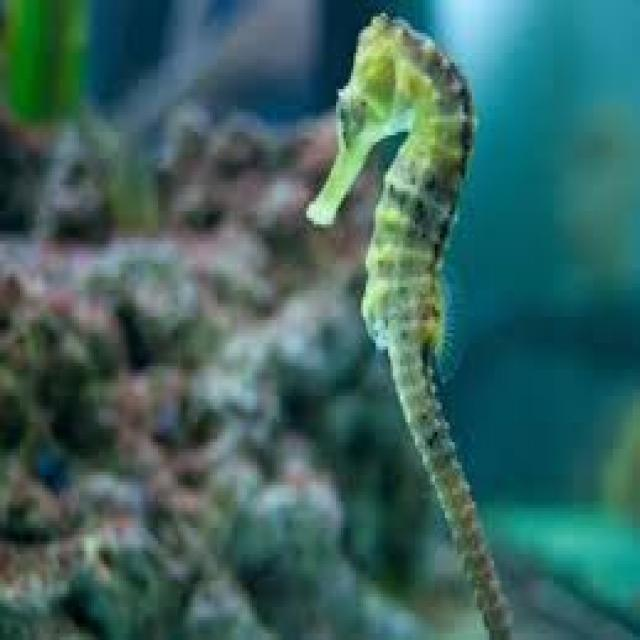SeaHorse: (304, 13, 514, 640)
